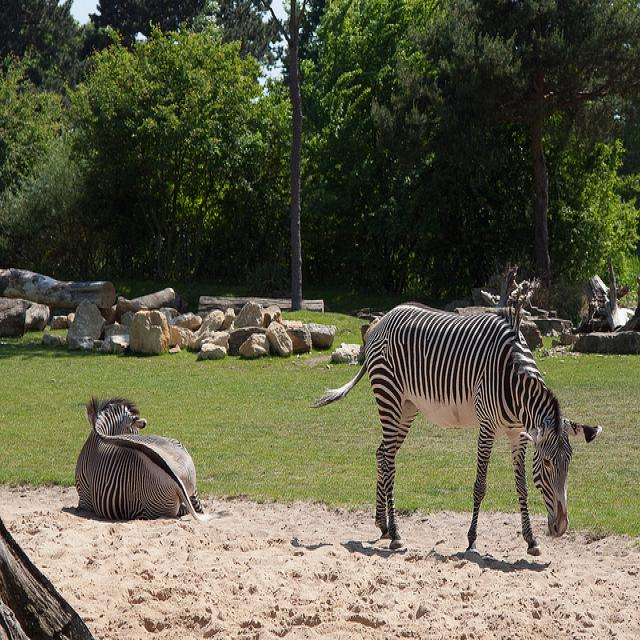zebra: (314, 297, 602, 556), (72, 395, 233, 524)
